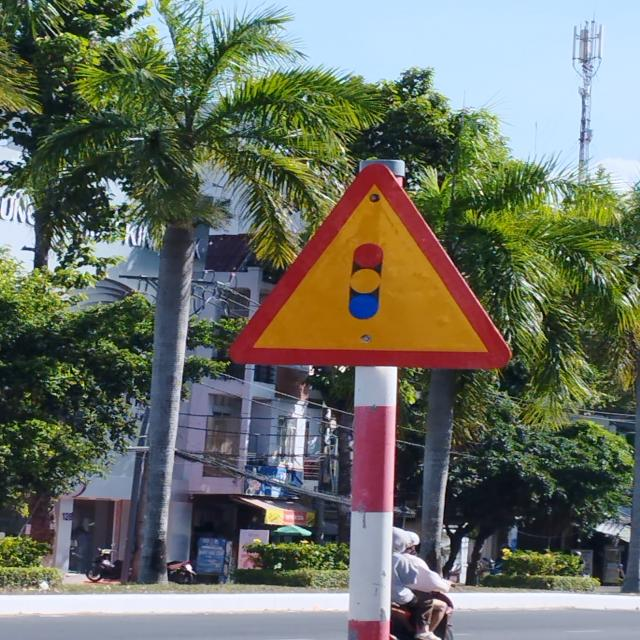Duong_Co_Go_Giam_Toc: (229, 162, 513, 370)
